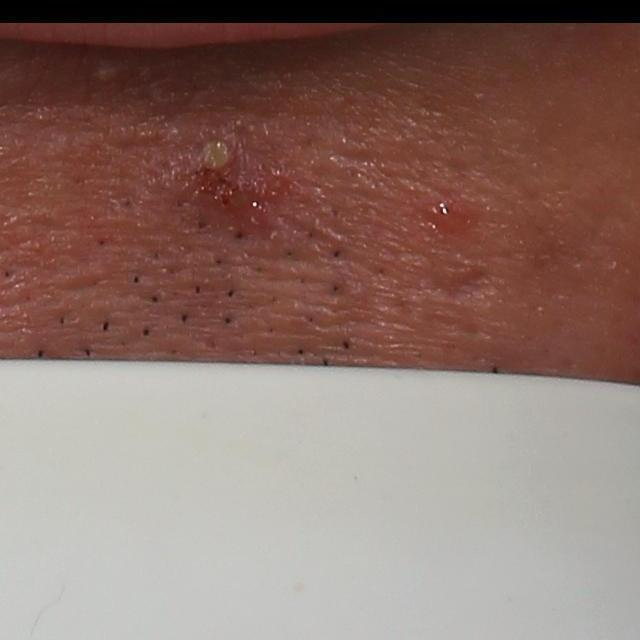atrophic_scar: (415, 260, 512, 313)
papule: (420, 191, 468, 235)
pustule: (168, 111, 275, 205), (85, 54, 134, 93)
